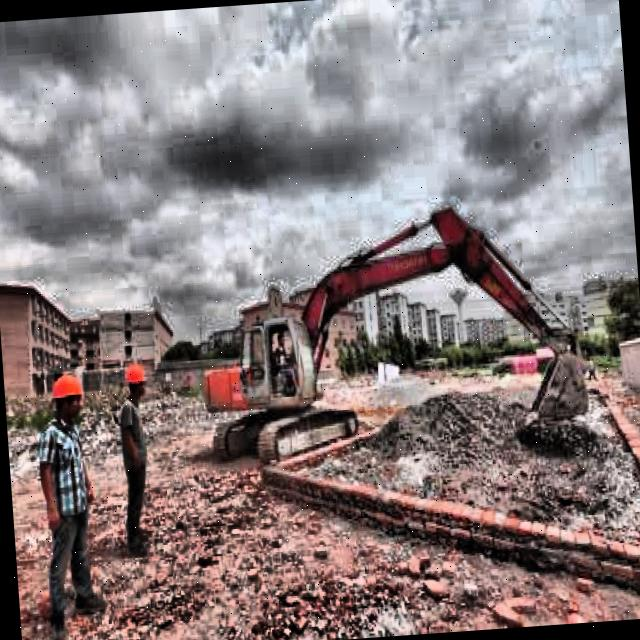helmet: (50, 368, 84, 422), (125, 359, 148, 399)
